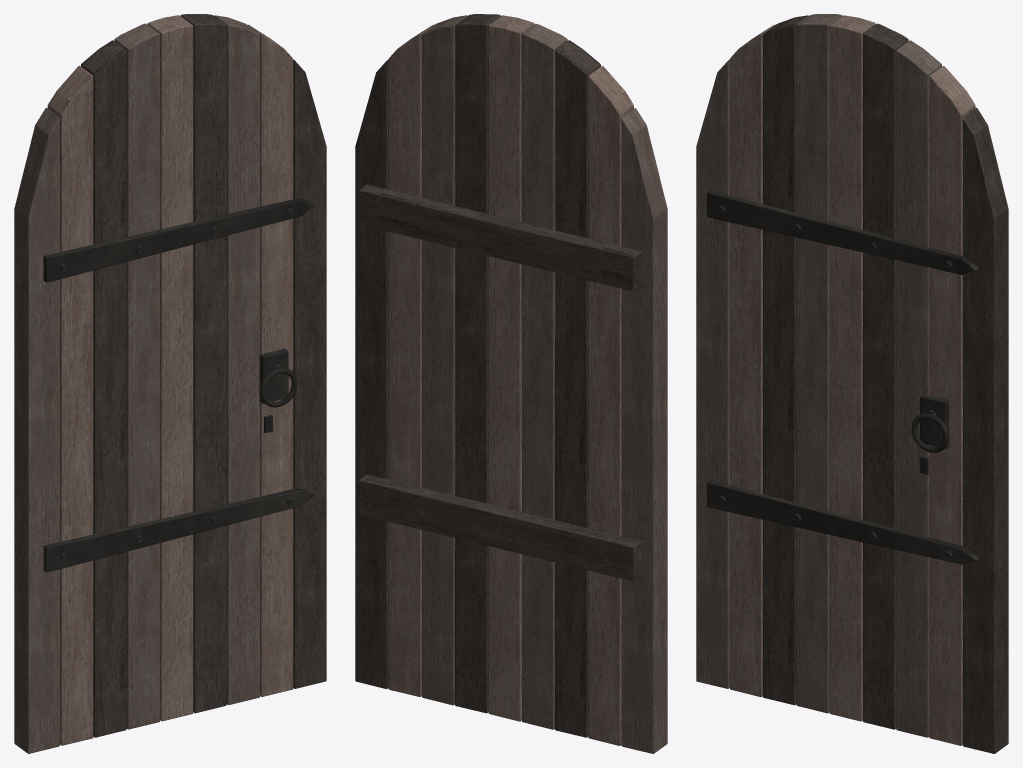
The model's file is Door_Plank.gltf.
3 renders of one model, left to right at view 1: azimuth 30°, elevation 25°; view 2: azimuth 150°, elevation 25°; view 3: azimuth 330°, elevation 25°, orthographic.
Parts seen in each view (by area): view 1: Door_Plank; view 2: Door_Plank; view 3: Door_Plank.
Boxes of the visible parts, left/top/right/bottom form: Door_Plank: left=14, top=14, right=326, bottom=753; Door_Plank: left=355, top=14, right=667, bottom=753; Door_Plank: left=696, top=14, right=1008, bottom=753.
Bounding box in the file's own units: 0.9964 × 2.2 × 0.1855.
4 materials, 4 textured.
